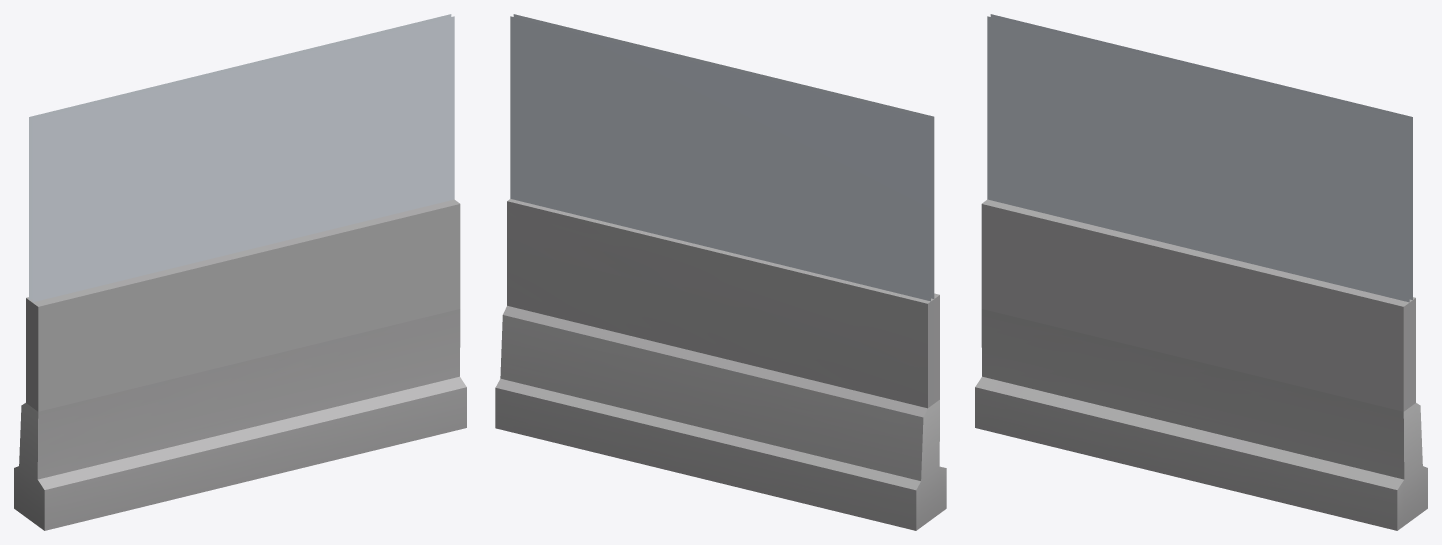
Rendered from Museum_Wall_Base.fbx.
The picture shows the model from 3 angles, left to right: view 1: azimuth 30°, elevation 25°; view 2: azimuth 150°, elevation 25°; view 3: azimuth 330°, elevation 25°; orthographic projection.
Visible parts, largest first — view 1: Cube, Plane; view 2: Cube, Plane; view 3: Cube, Plane.
Part boxes in pixels (<box>): Cube: <box>14,199,466,530</box>; Plane: <box>29,14,454,302</box>; Cube: <box>495,199,946,530</box>; Plane: <box>510,14,934,301</box>; Cube: <box>975,199,1427,530</box>; Plane: <box>987,14,1412,302</box>.
Size of the model in its own units: 2 by 1.82 by 0.2498.
